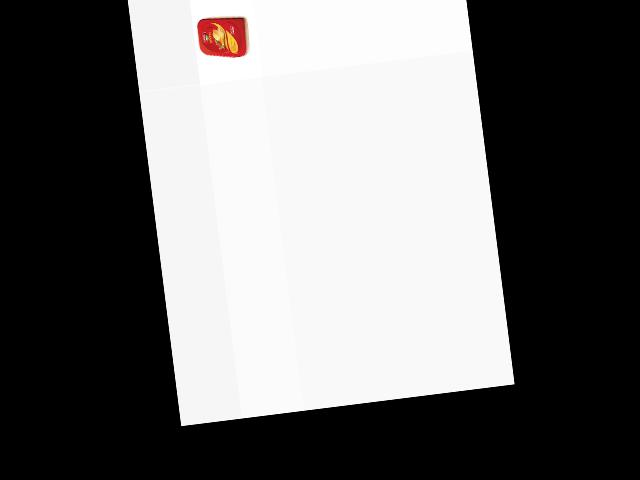cheese: (193, 11, 251, 62)
